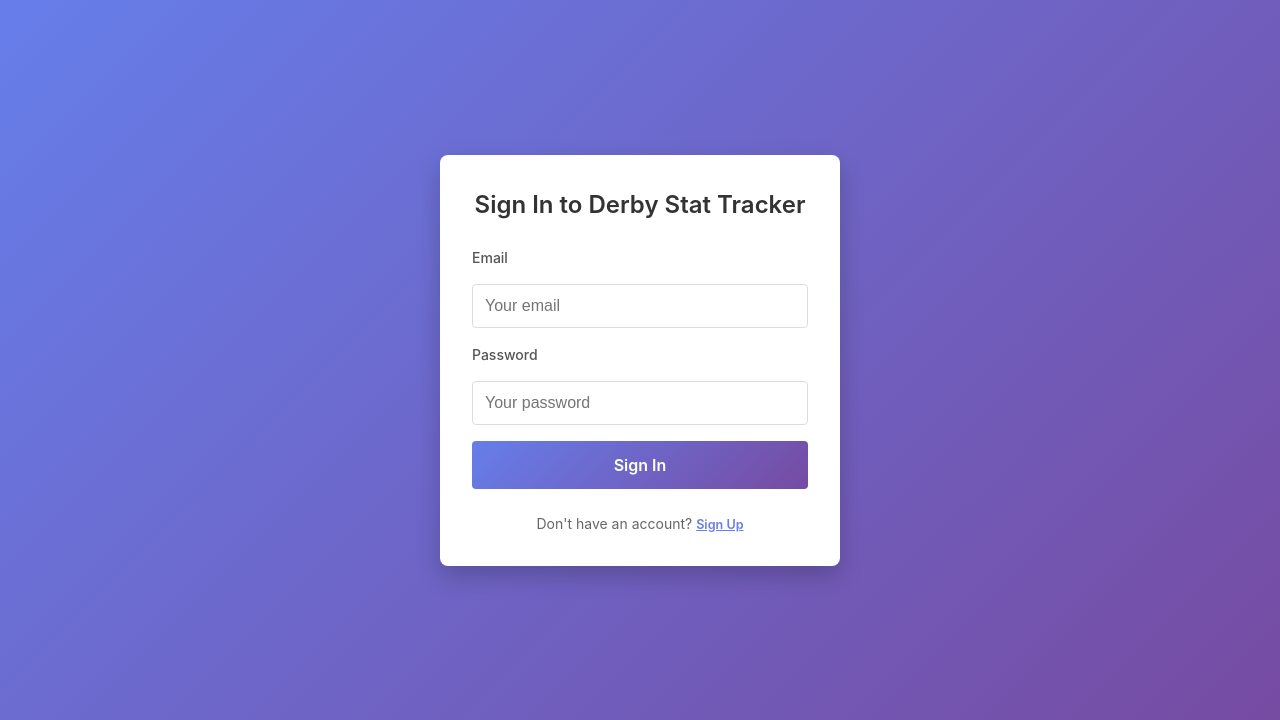
Test: Auth Component › handles successful sign up
Switch to sign up mode
Click the button "Sign Up" at (720, 524), box [696,516,744,532]
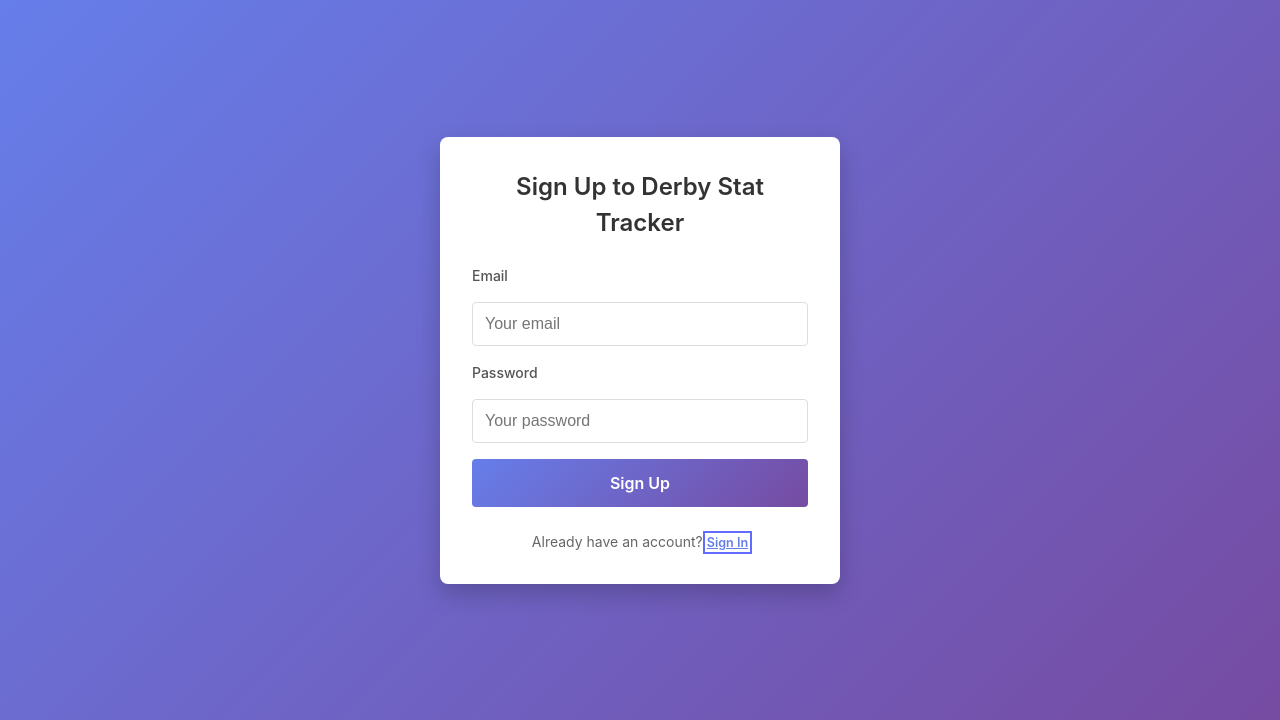
Type "newuser@example.com" into the field labelled "Email" at (640, 324), box [472,302,808,346]
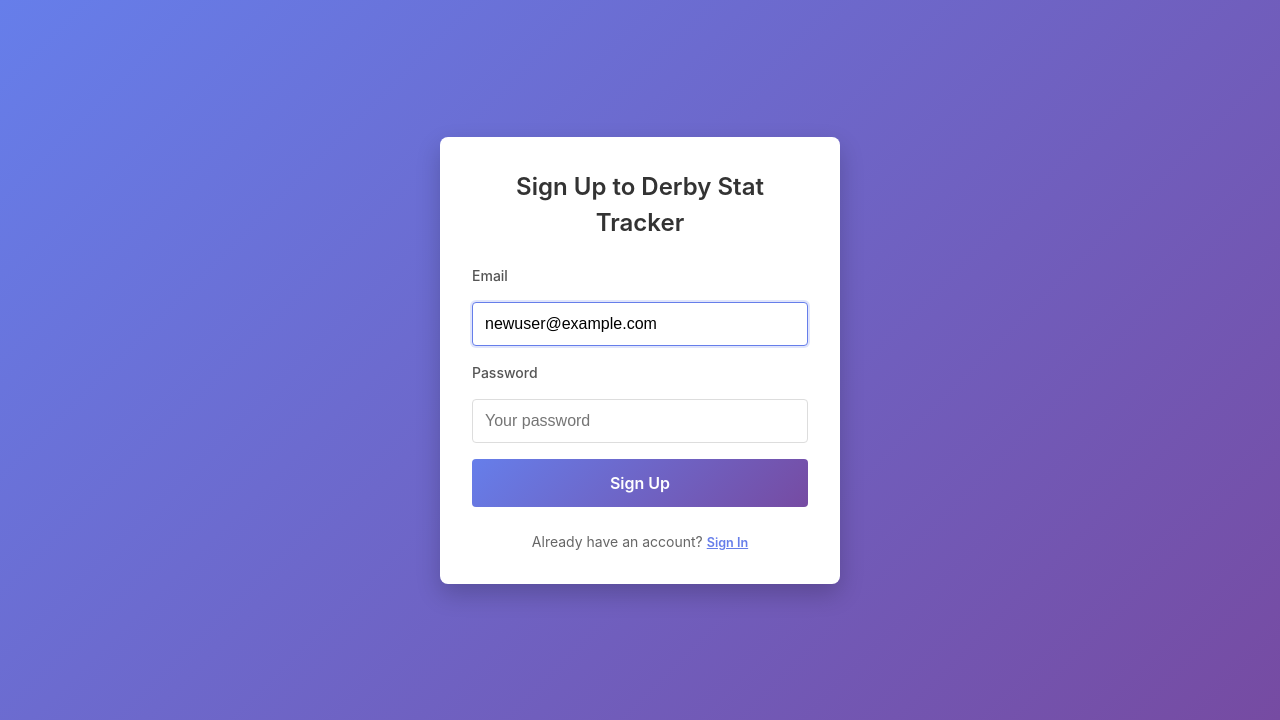
Type "newpassword123" into the password field labelled "Password" at (640, 420), box [472,398,808,442]
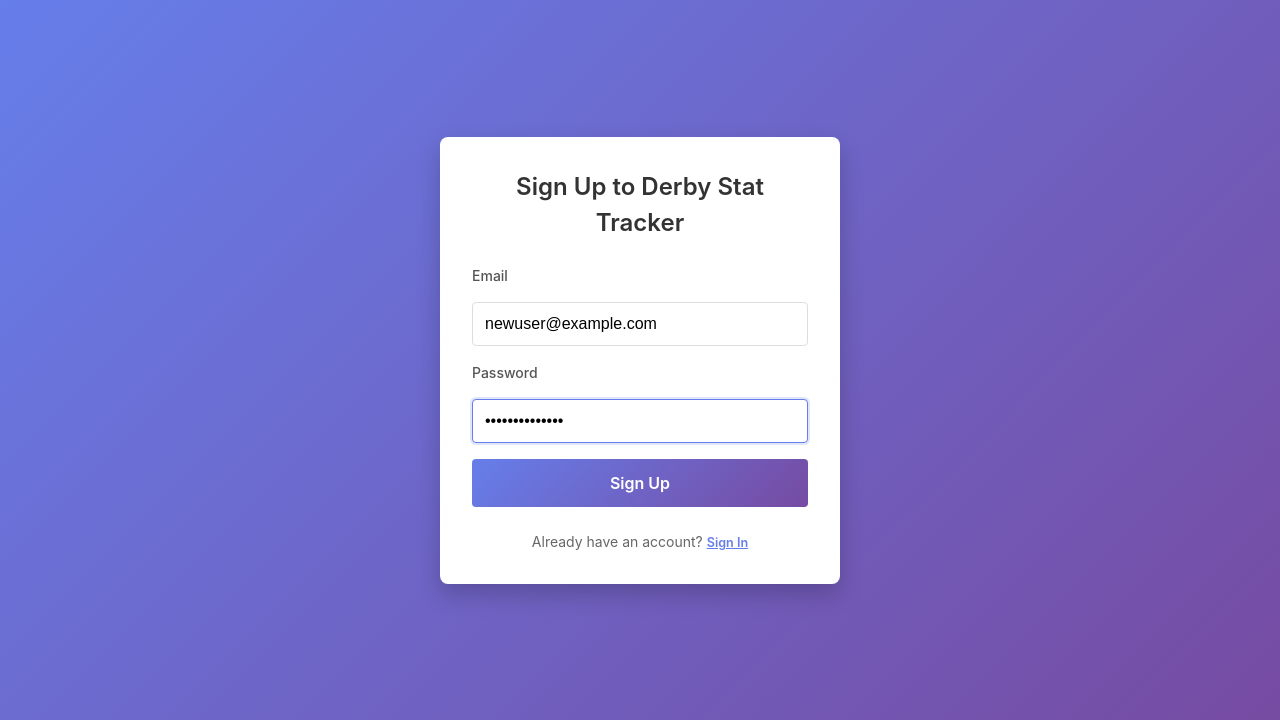
Click the button "Sign Up" at (640, 482), box [472,458,808,506]
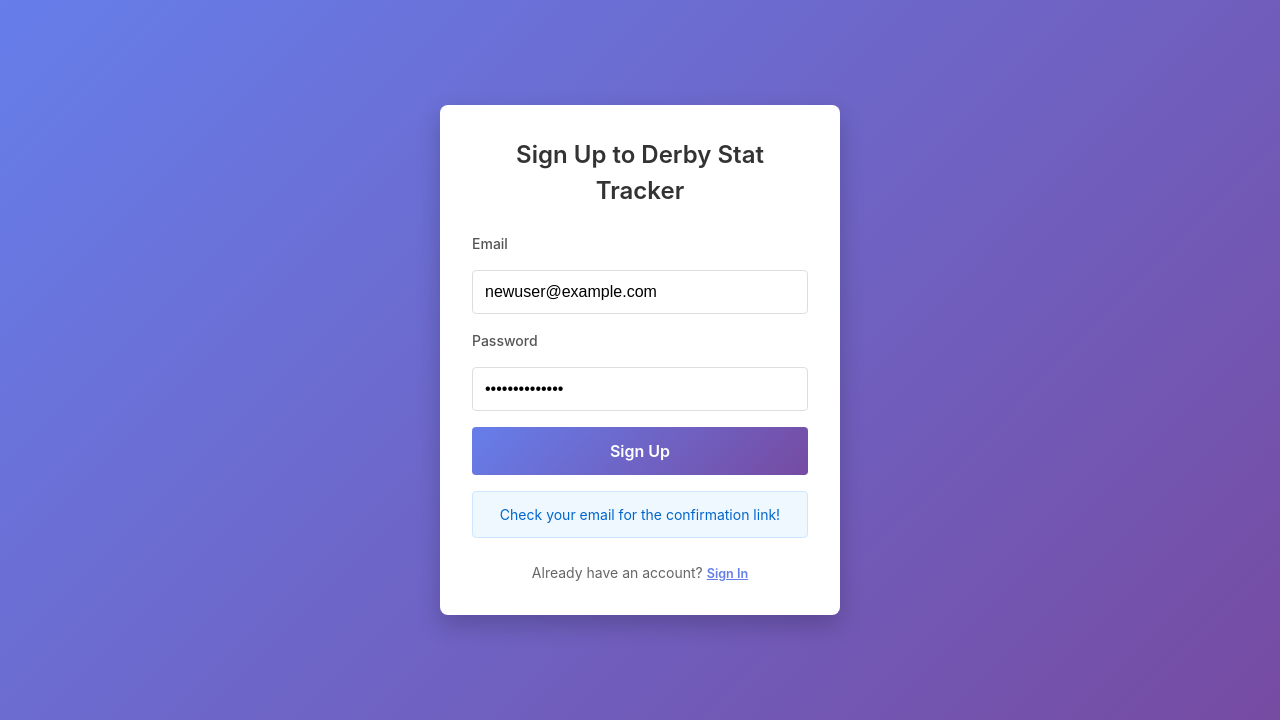
Now the text "Check your email for the confirmation link!" is shown, box [472,491,808,538]
